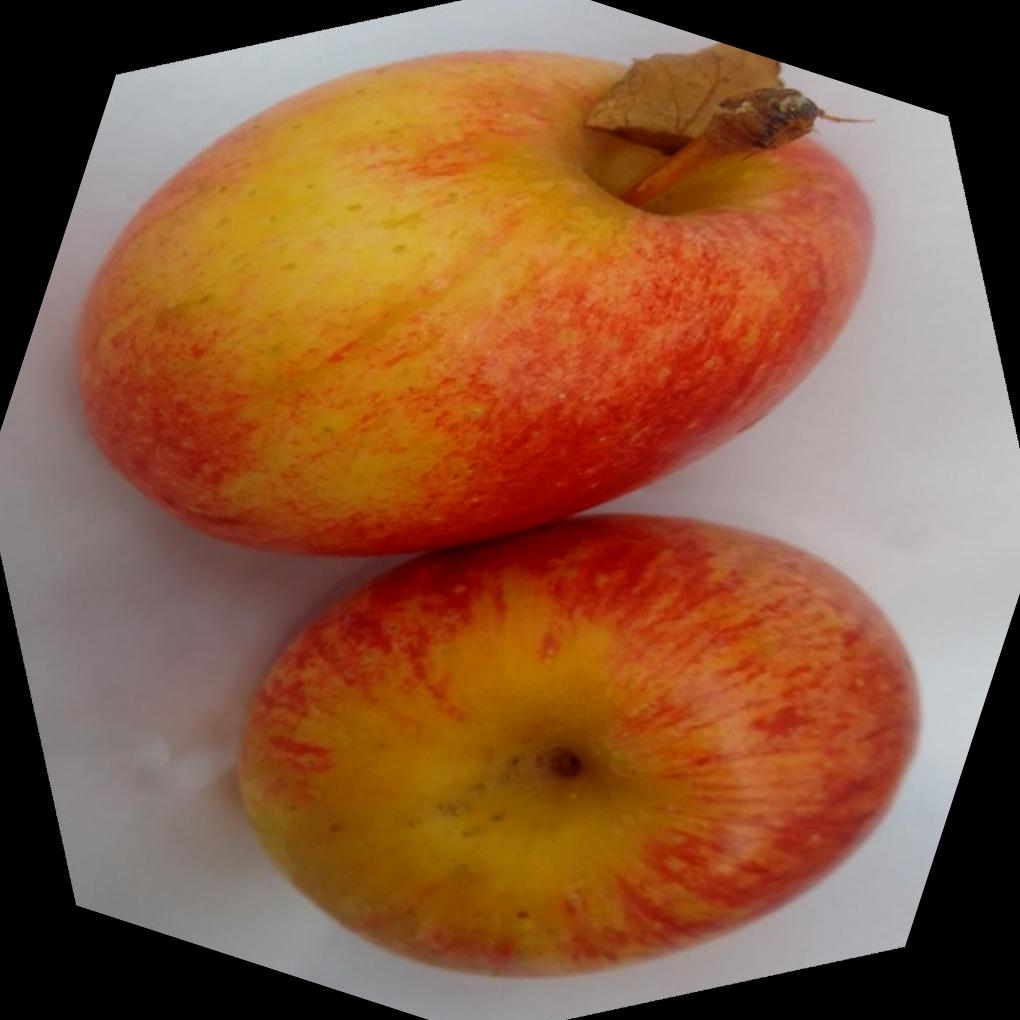FreshGuava: (69, 42, 924, 985)
